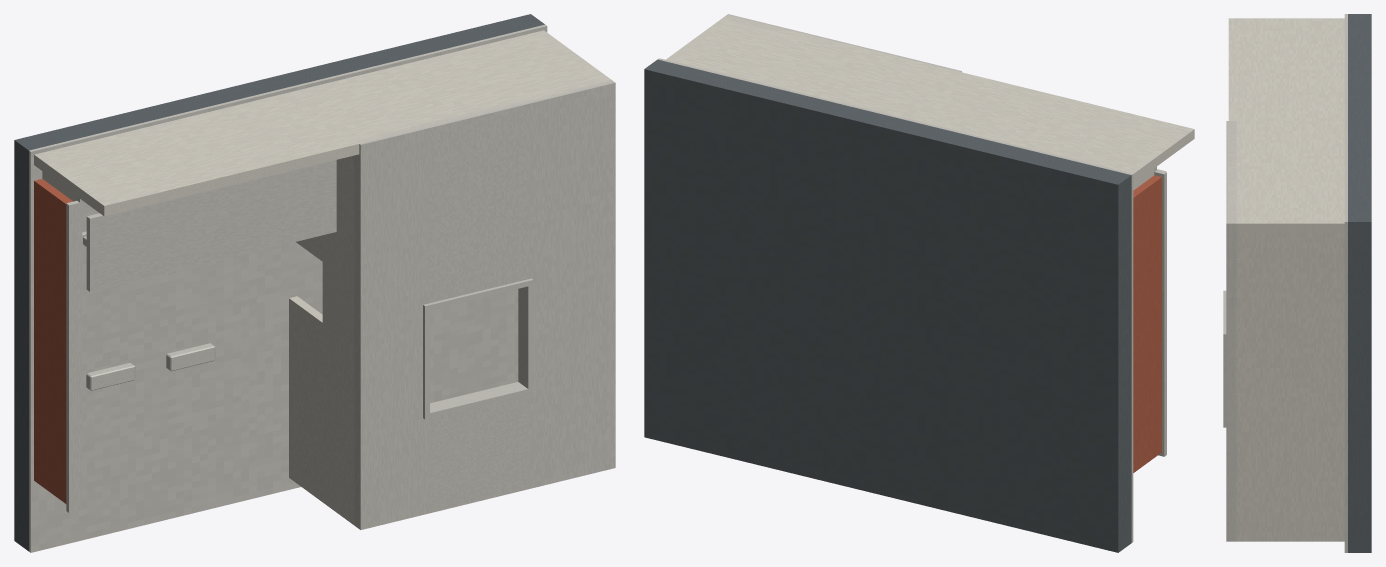
Rendered from earth-gi-gallery.gltf.
3 renders of one model, left to right at view 1: azimuth 30°, elevation 25°; view 2: azimuth 150°, elevation 25°; view 3: azimuth 270°, elevation 25°, orthographic. The views are drawn at different scales.
Size of the model in its own units: 31 by 23 by 9.35.
6 materials, 5 textured.
